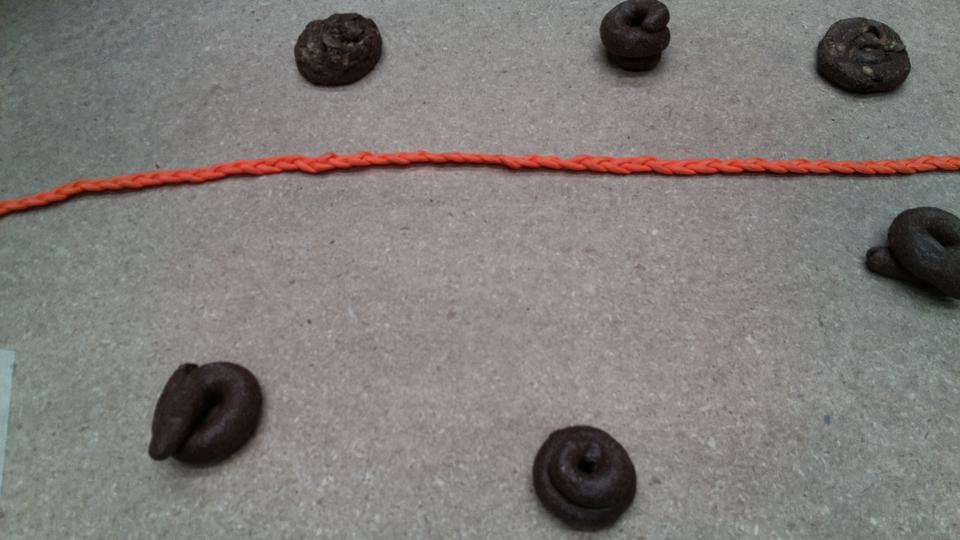poop: (143, 357, 276, 474), (531, 419, 642, 535), (863, 199, 960, 313), (812, 11, 919, 108), (289, 7, 389, 97), (599, 1, 676, 77)
rope: (118, 141, 960, 197), (2, 173, 192, 231)
